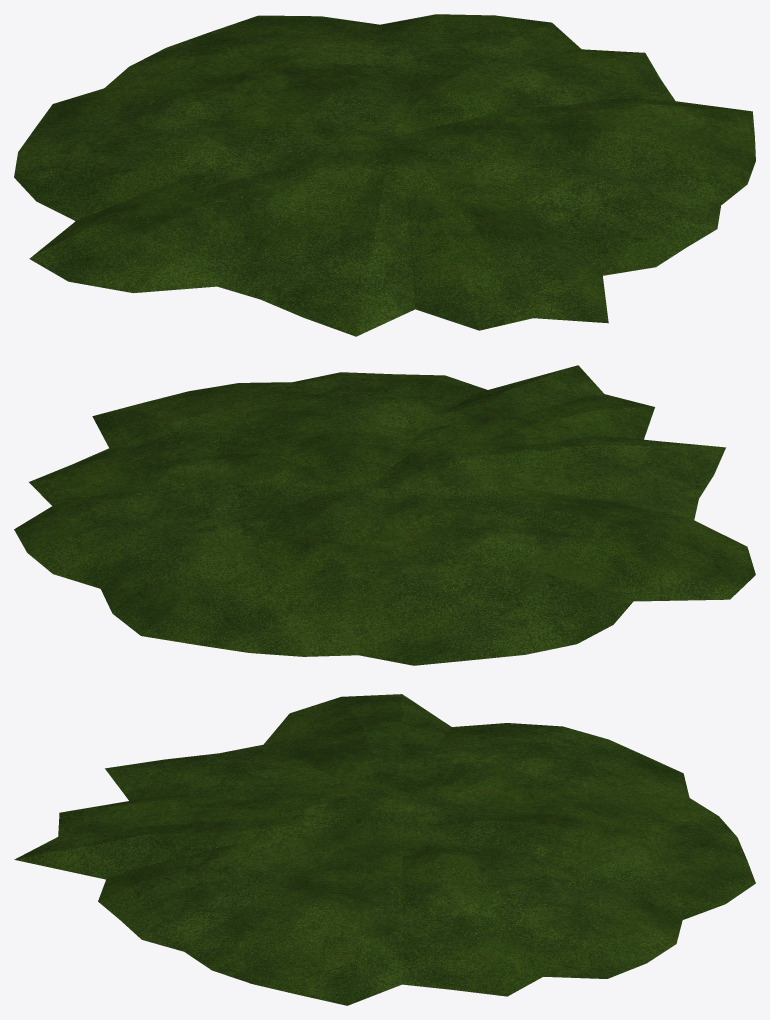
The model's file is feather_moss_v02.glb.
3 views of the same model, one above another, from view 1: azimuth 30°, elevation 25°; view 2: azimuth 150°, elevation 25°; view 3: azimuth 270°, elevation 25° (orthographic). The views are drawn at different scales.
Parts seen in each view (by area): view 1: feather_moss_v02; view 2: feather_moss_v02; view 3: feather_moss_v02.
Boxes of the visible parts, left/top/right/bottom form: feather_moss_v02: left=14, top=14, right=755, bottom=336; feather_moss_v02: left=14, top=365, right=755, bottom=665; feather_moss_v02: left=14, top=694, right=755, bottom=1005.
Bounding box in the file's own units: 0.8144 × 0.0488 × 0.819.
Materials: 1 (1 with a texture image).
